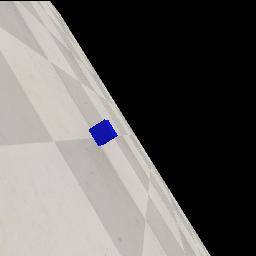box: (89, 119, 118, 146)
